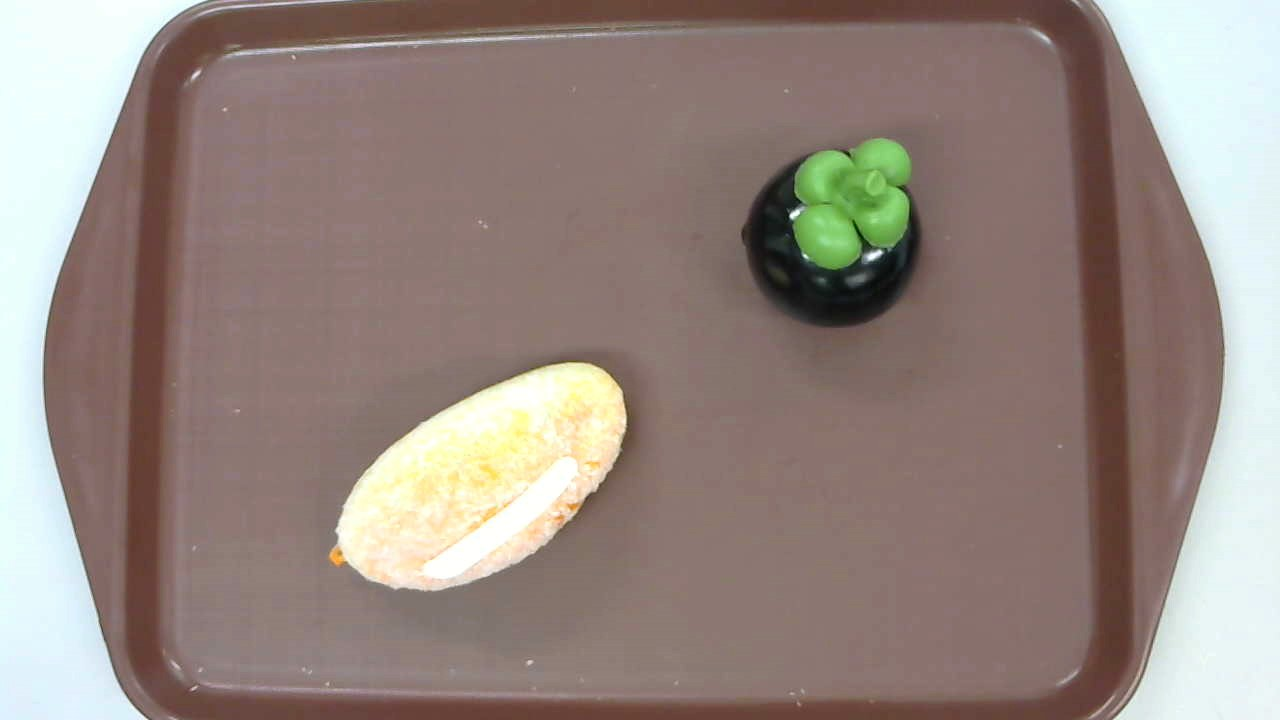coconut: (328, 361, 628, 591)
mangosteen: (740, 137, 924, 328)
